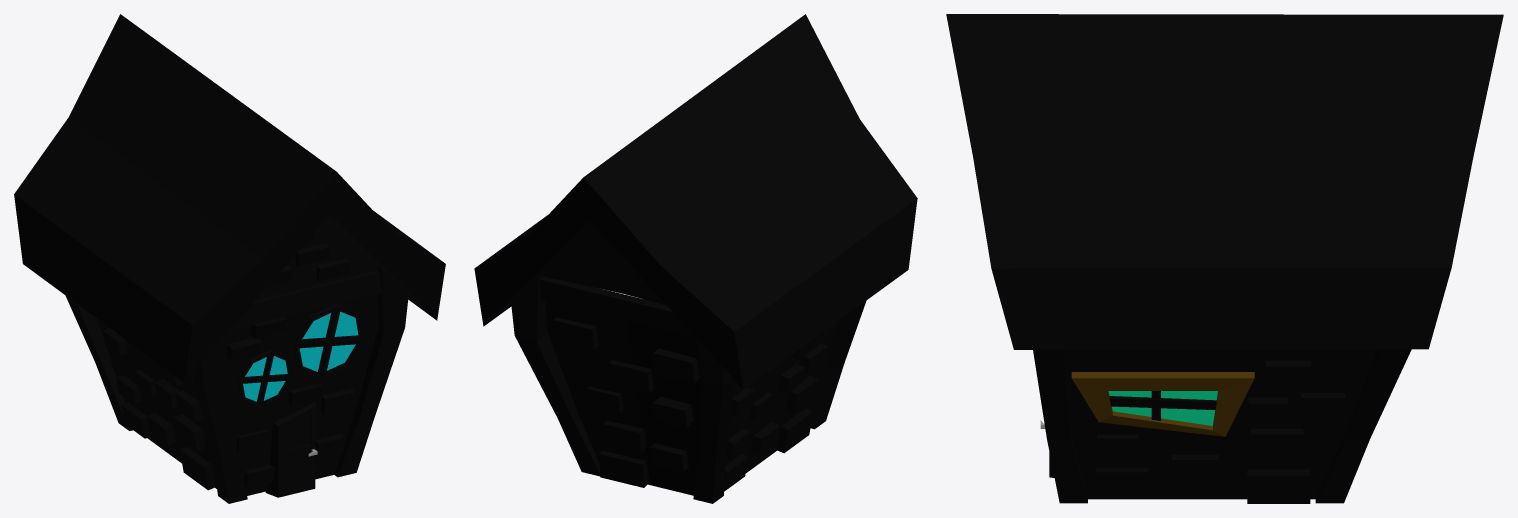
The model's file is Sale.fbx.
The picture shows the model from 3 angles, left to right: view 1: azimuth 30°, elevation 25°; view 2: azimuth 150°, elevation 25°; view 3: azimuth 270°, elevation 25°; orthographic projection. The views are drawn at different scales.
Visible parts, largest first — view 1: Sale; view 2: Sale; view 3: Sale.
Part boxes in pixels (bbox=[...]): Sale: bbox=[14, 14, 445, 503]; Sale: bbox=[474, 14, 917, 503]; Sale: bbox=[946, 14, 1503, 503].
Bounding box in the file's own units: 687 × 909 × 1017.
